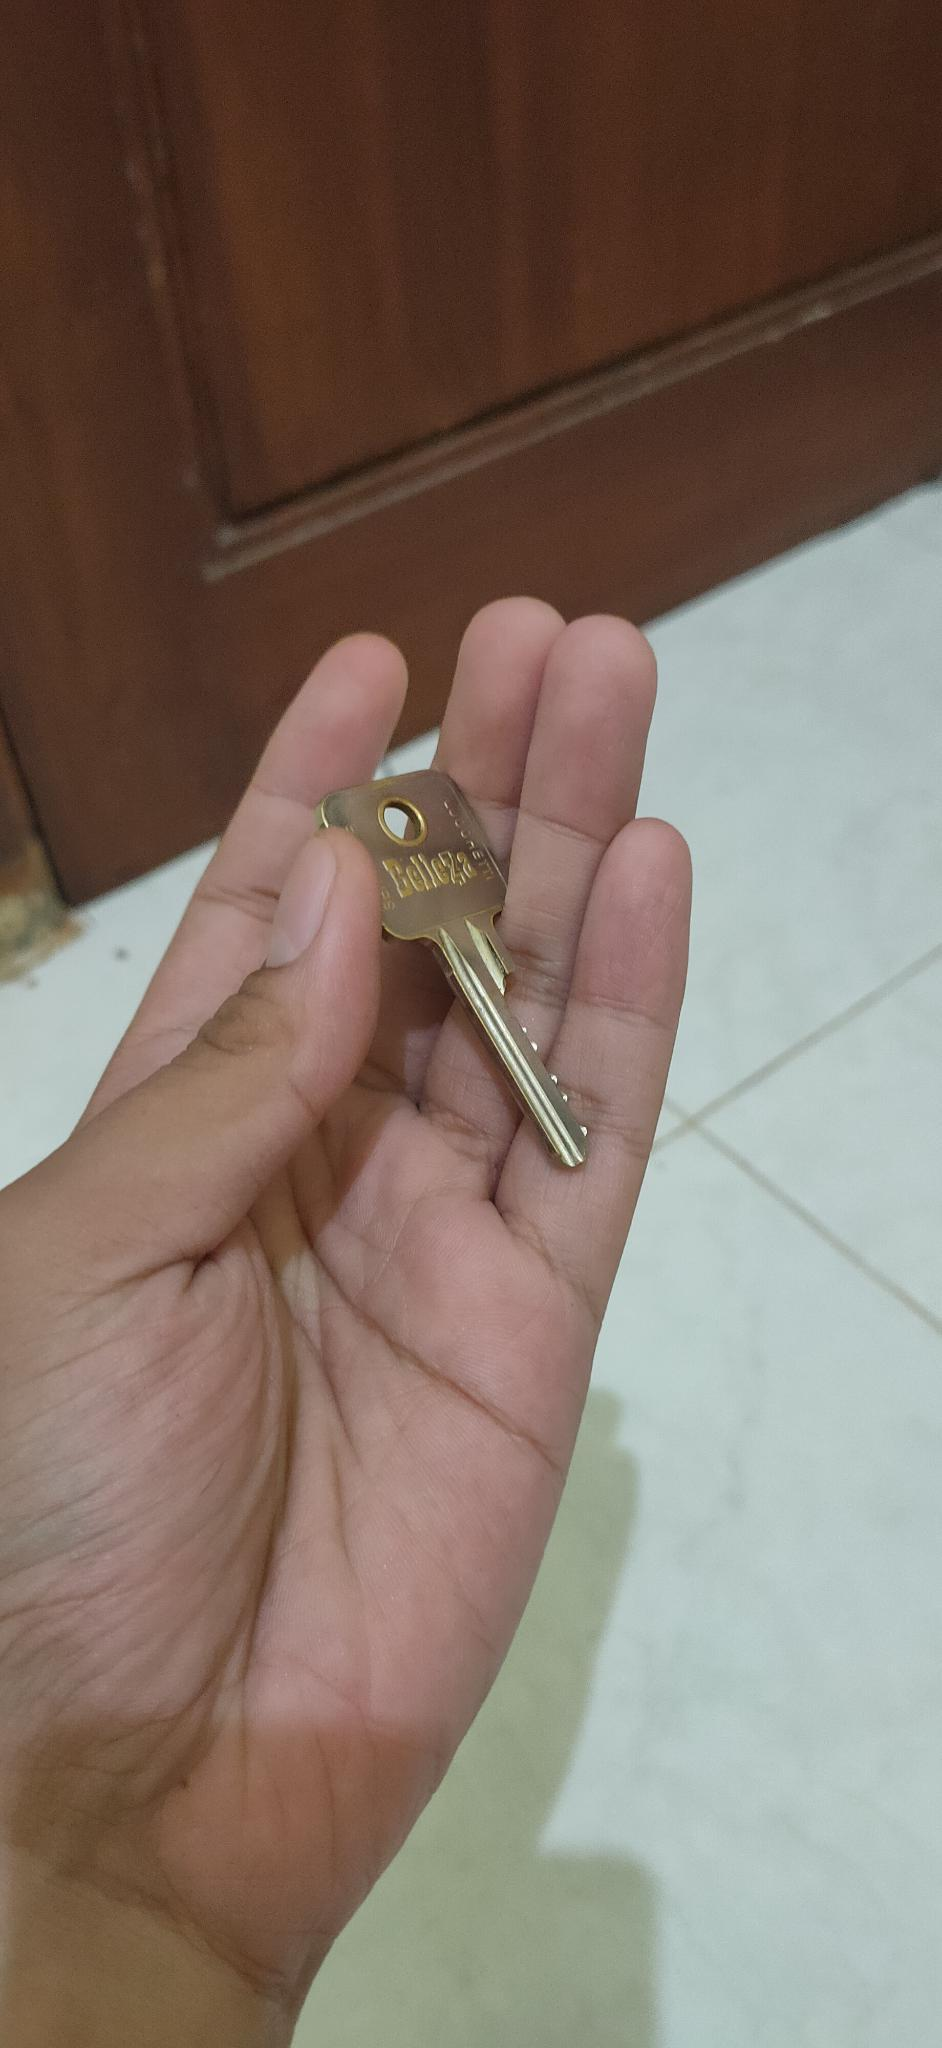keys: (299, 754, 635, 1187)
